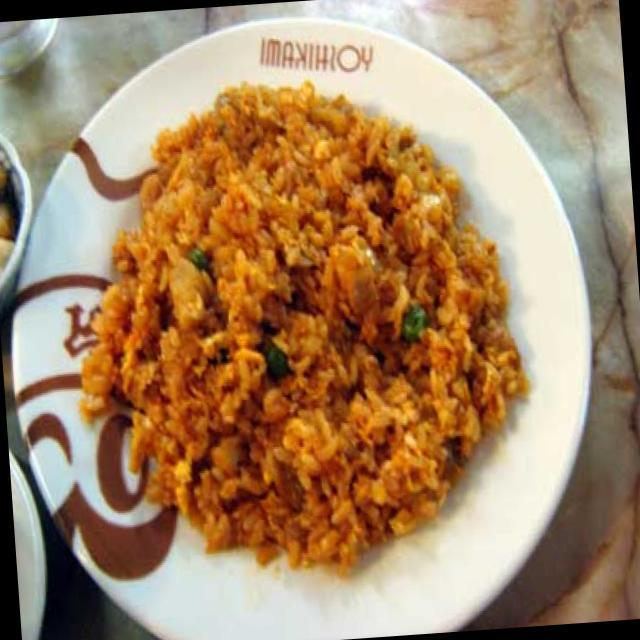Rice: (58, 64, 535, 569)
